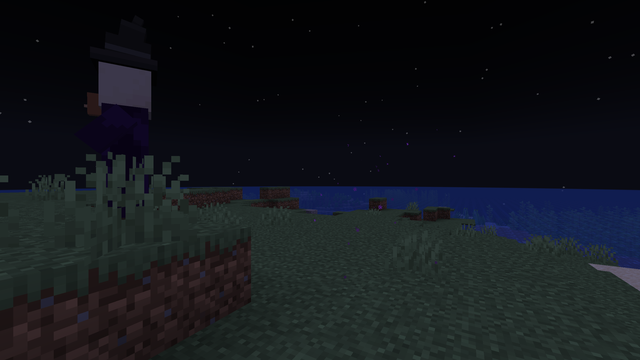sorcieres: (84, 50, 167, 239)
